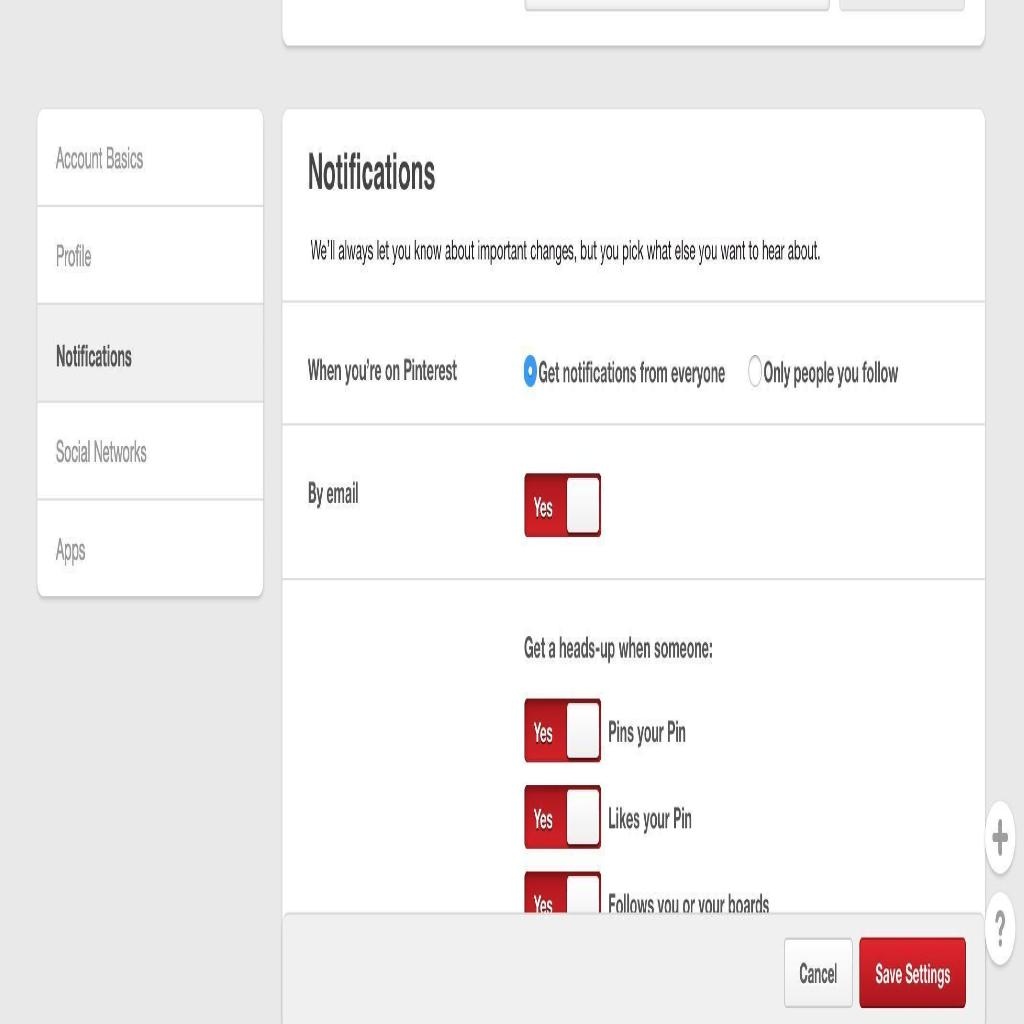button: (36, 303, 263, 399), (859, 934, 967, 1009), (785, 942, 854, 1000)
icon: (985, 802, 1014, 874), (988, 896, 1012, 960)
label: (539, 348, 735, 403), (608, 872, 772, 920), (306, 346, 460, 392), (766, 345, 902, 397), (610, 798, 696, 846), (604, 709, 692, 753), (305, 478, 365, 510)
radio: (748, 352, 764, 389), (523, 346, 537, 387)
switch: (525, 698, 602, 766), (525, 471, 600, 538), (523, 785, 601, 848), (524, 874, 601, 917)
